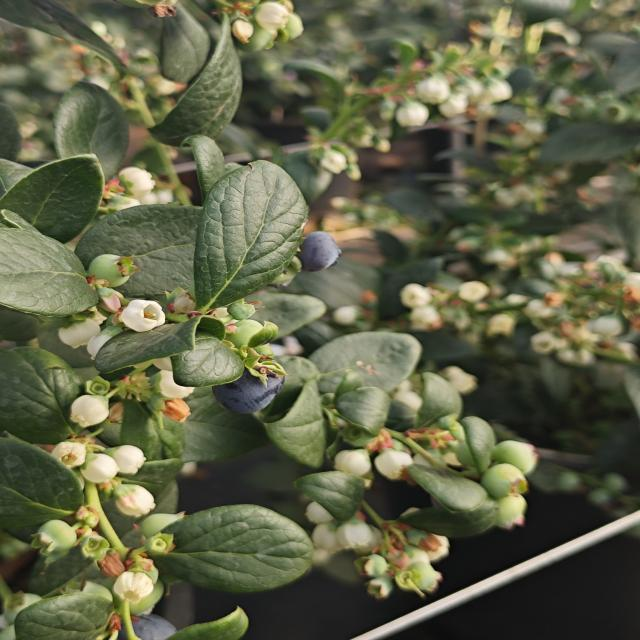ripe: (209, 362, 288, 418), (296, 229, 344, 275)
